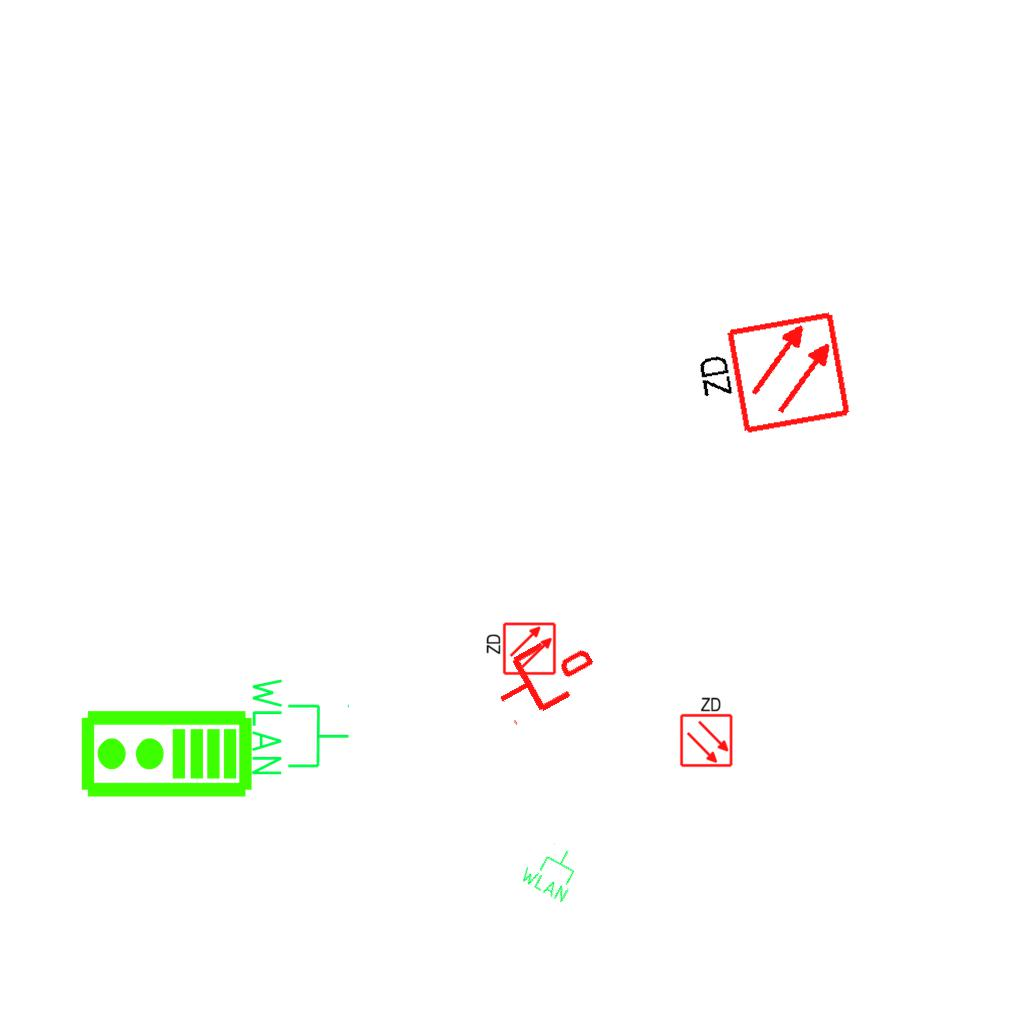Datenanschluss_einfach: (483, 621, 604, 731)
Gegensprechanlage_mit_Video: (78, 708, 254, 803)
WLAN: (248, 674, 352, 779), (516, 834, 588, 906)
ZD_Melder_in_Zwischendecke_mit_Revisionsoeffnung_mind_40_x_40_cm: (686, 308, 854, 447), (677, 694, 734, 768), (483, 621, 557, 678)
